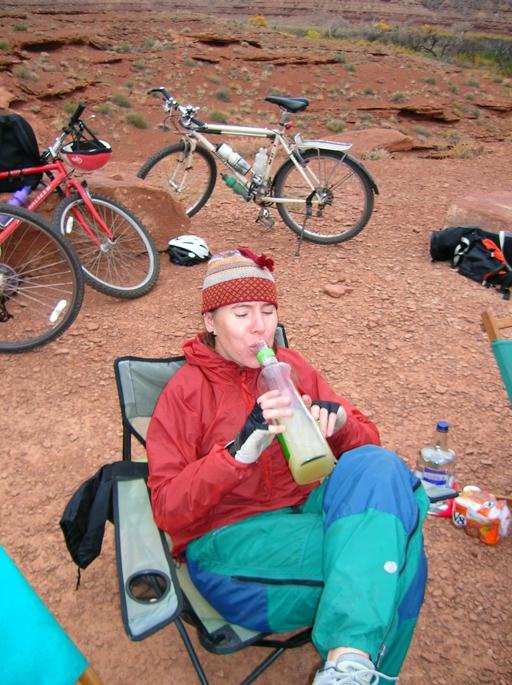non-vehicle: (134, 87, 380, 258), (0, 100, 157, 353)
